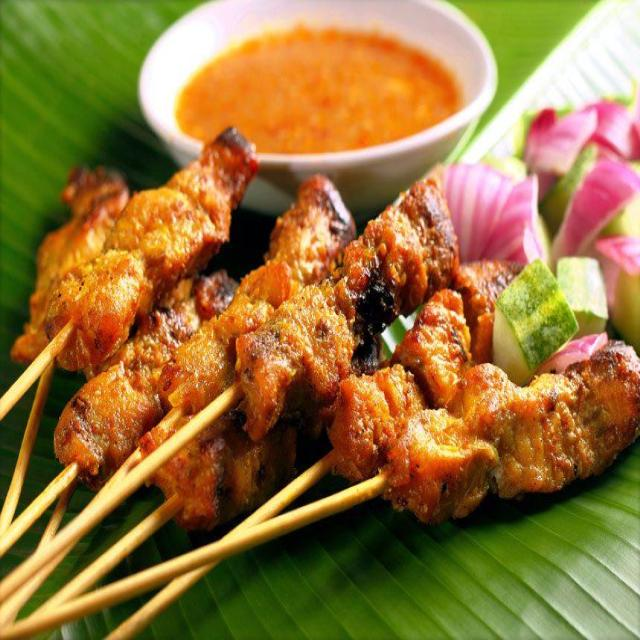Sate: (12, 157, 623, 587)
